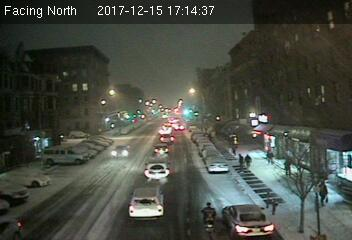bicycle: (200, 199, 218, 233)
car: (223, 204, 274, 237), (127, 185, 167, 221), (143, 162, 172, 179), (204, 156, 230, 174), (111, 146, 130, 158), (153, 143, 169, 157), (158, 133, 175, 143)
pedestrian: (243, 153, 253, 168)
